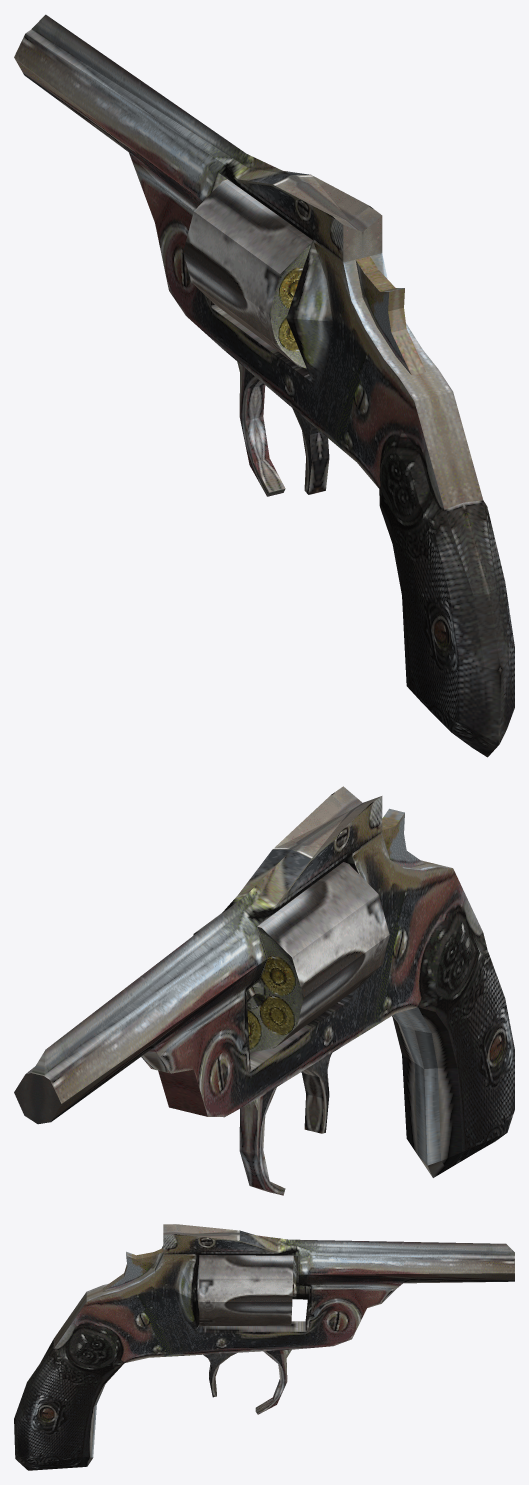
The model's file is snubvolver.glb.
3 renders of one model, top to bottom at view 1: azimuth 30°, elevation 25°; view 2: azimuth 150°, elevation 25°; view 3: azimuth 270°, elevation 25°, orthographic. The views are drawn at different scales.
Visible parts, largest first — view 1: Snubvolver; view 2: Snubvolver; view 3: Snubvolver.
Boxes of the visible parts, <box> form: Snubvolver: <box>14,14,514,757</box>; Snubvolver: <box>14,786,514,1195</box>; Snubvolver: <box>14,1224,514,1470</box>.
Size of the model in its own units: 0.0705 by 0.2493 by 0.4688.
1 material, 1 textured.
